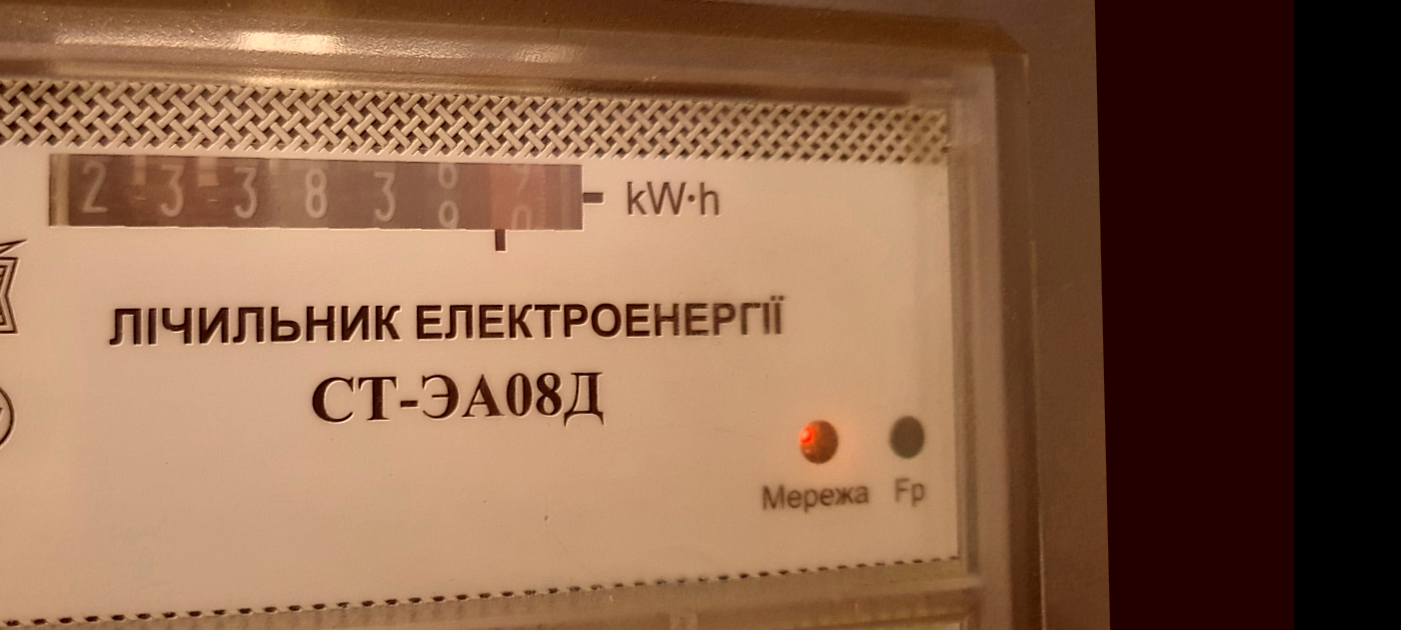0: (508, 202, 535, 237)
2: (75, 156, 115, 218)
3: (226, 160, 263, 224), (157, 160, 186, 219), (370, 166, 400, 223)
8: (298, 163, 333, 222), (435, 158, 462, 191)
9: (505, 158, 536, 198), (435, 197, 464, 234)
screen: (17, 118, 614, 289)
